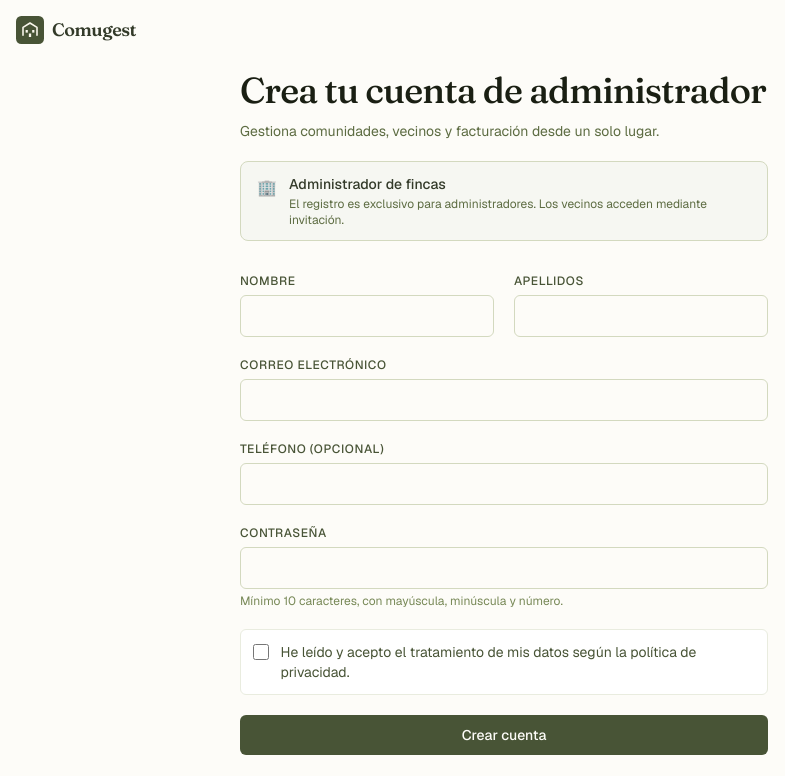
RegisterPage › shows validation errors when submitted with empty required fields
Step 1. Click the button "Crear cuenta" → (504, 735), box [240, 715, 768, 755]
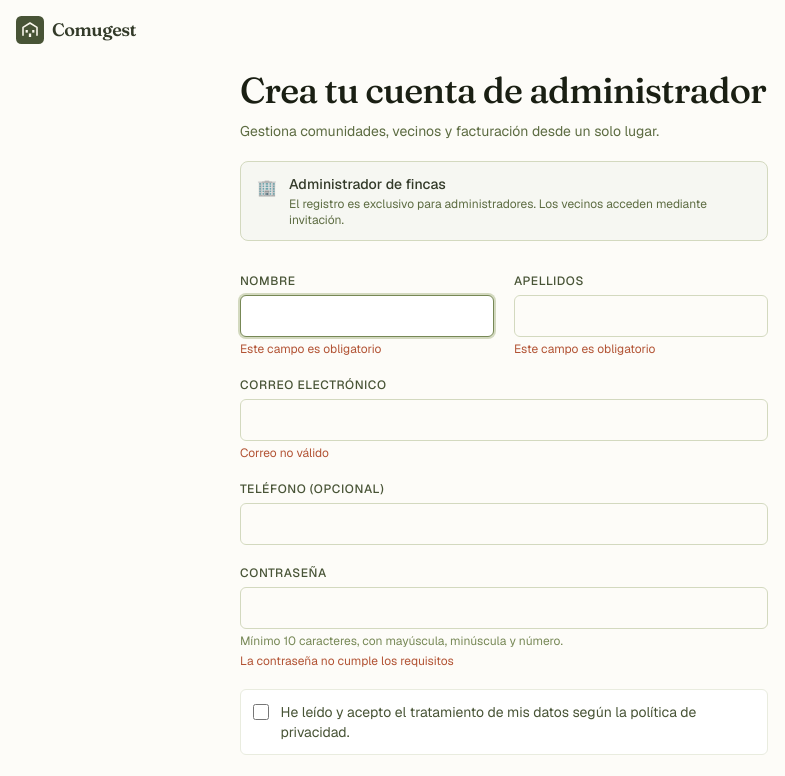
Result: the text "Este campo es obligatorio" below "Nombre" is shown at [240, 341, 381, 357]
